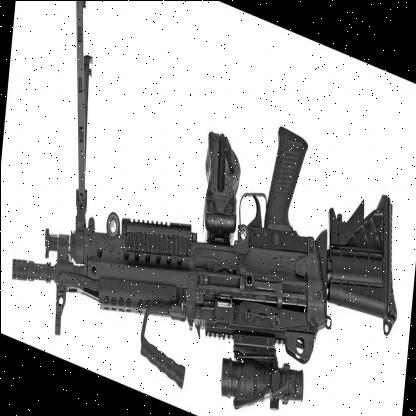rifle: (8, 21, 414, 416)
